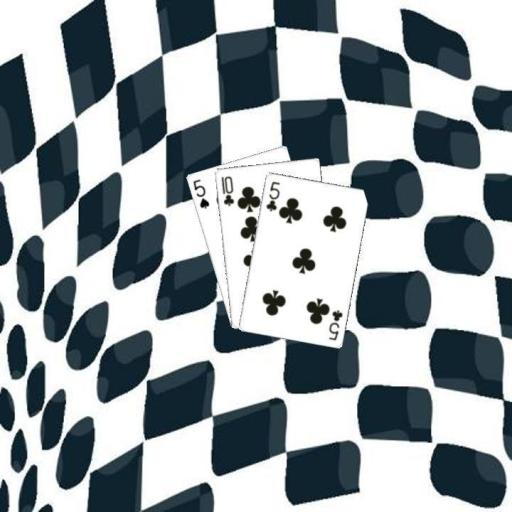card-corner: (189, 176, 211, 210), (326, 306, 344, 342), (262, 178, 281, 212), (218, 173, 236, 207)
